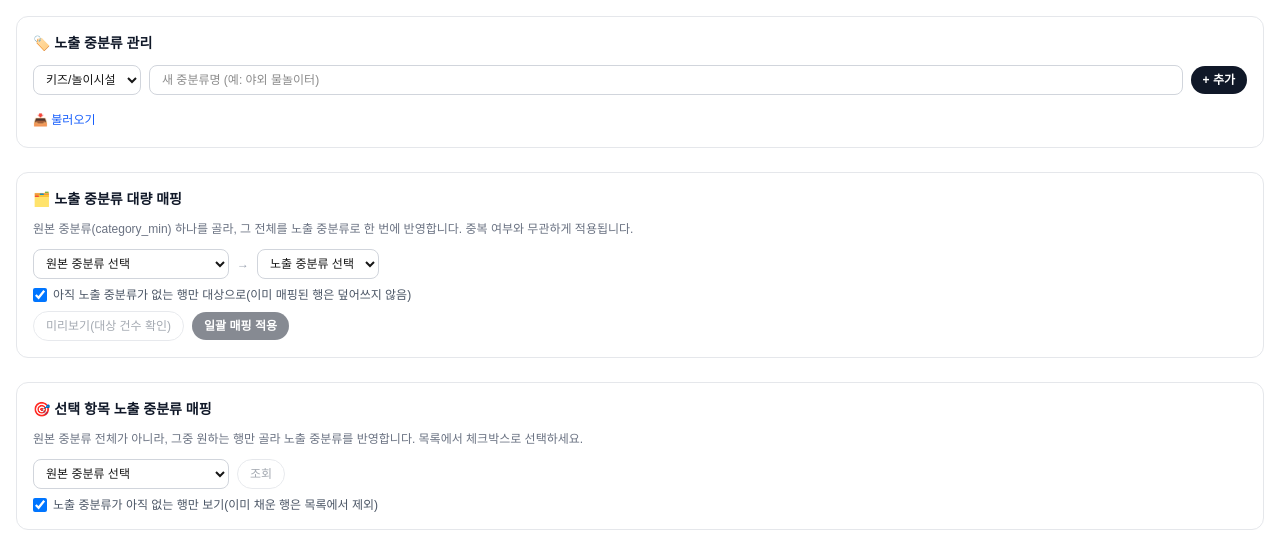
Scenario: CategoryMappingPanel › 중분류 불러오기를 누르면 목록을 보여준다
The width and height of the screenshot is (1280, 548).
Click the button "📥 불러오기" at [64, 120], box [33,112,96,128]
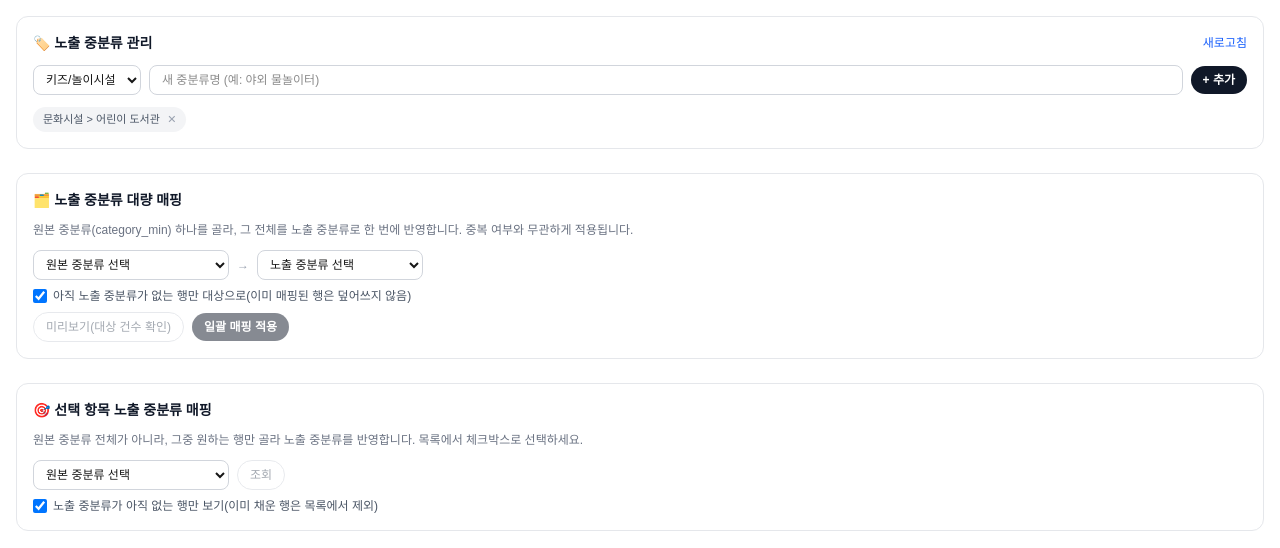
Expected: the text "문화시설 > 어린이 도서관" is shown, [43,111,160,128]
